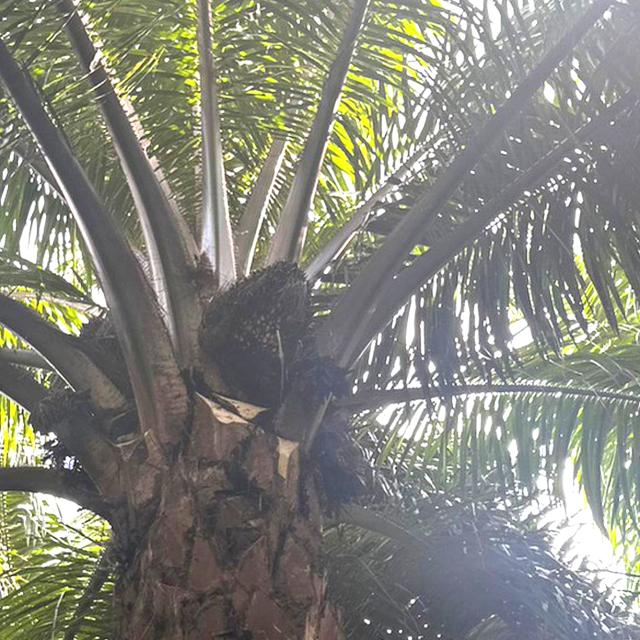unripe: (195, 256, 306, 380)
